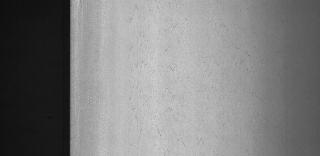silk spot: (120, 3, 262, 153)
